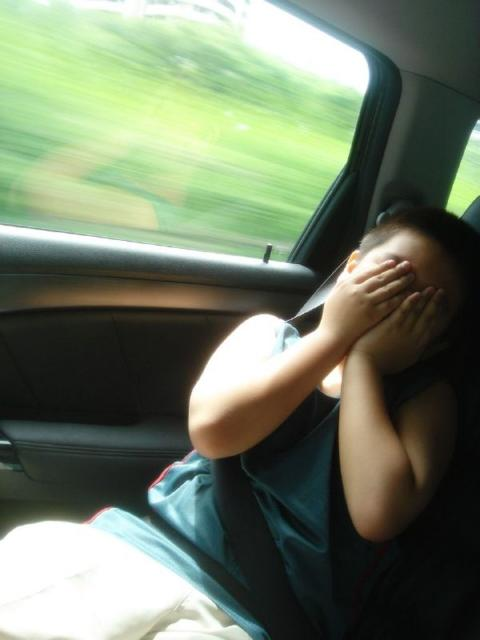Seatbelt: (206, 260, 347, 628)
